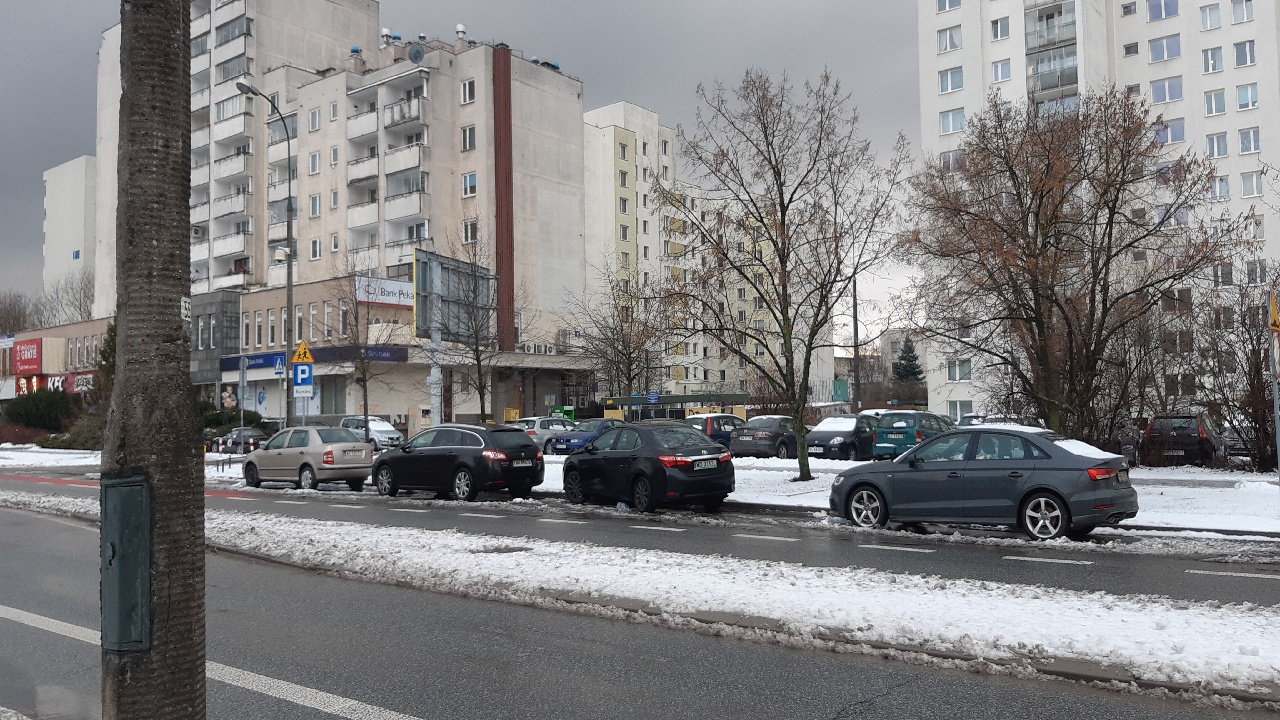A17: (288, 339, 316, 365)
D18: (292, 365, 316, 385)
